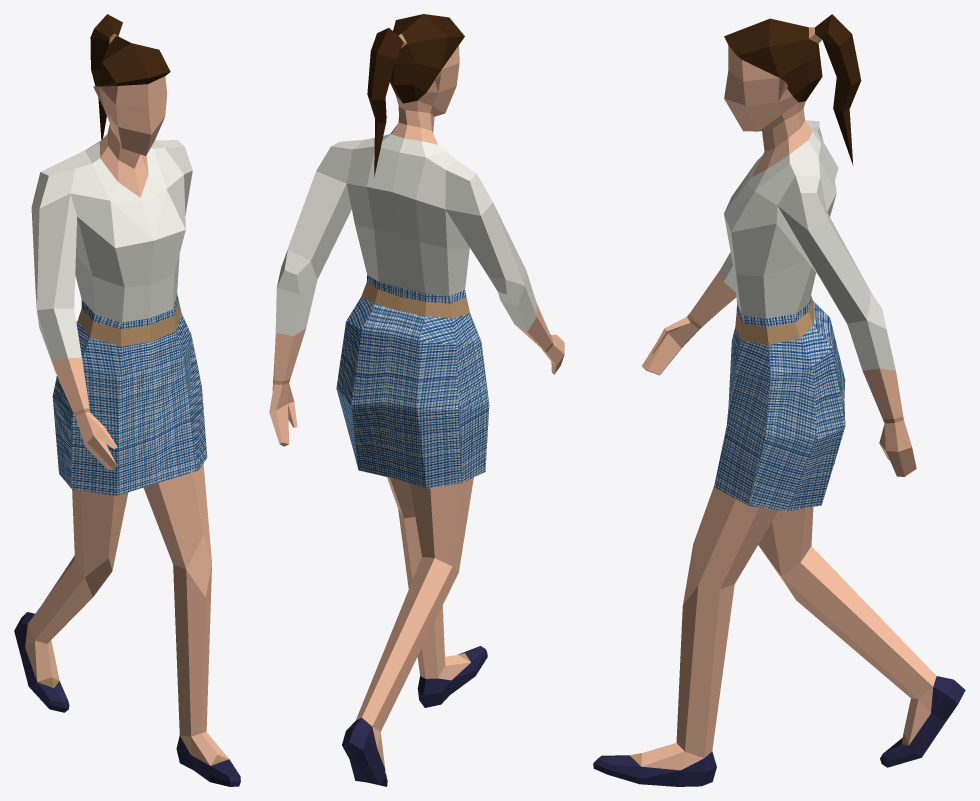
The model's file is SpringWomanB.003.glb.
The picture shows the model from 3 angles, left to right: view 1: azimuth 30°, elevation 25°; view 2: azimuth 150°, elevation 25°; view 3: azimuth 270°, elevation 25°; orthographic projection. The views are drawn at different scales.
Visible parts, largest first — view 1: SpringWomanB.003; view 2: SpringWomanB.003; view 3: SpringWomanB.003.
Part boxes in pixels (left/top/right/bottom): SpringWomanB.003: left=14, top=14, right=240, bottom=786; SpringWomanB.003: left=269, top=14, right=564, bottom=786; SpringWomanB.003: left=593, top=14, right=965, bottom=786.
Bounding box in the file's own units: 0.4703 × 1.68 × 0.7472.
Materials: 1 (1 with a texture image).
